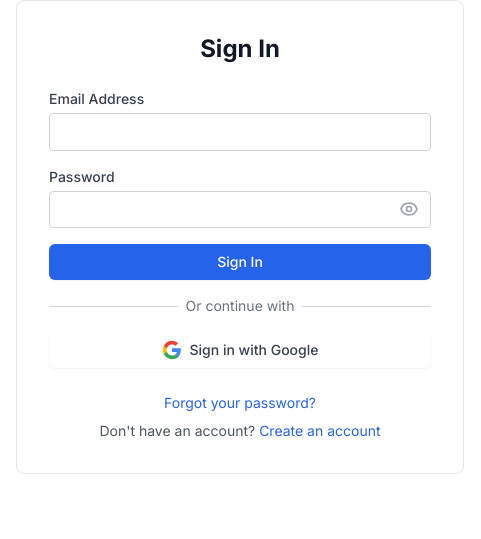
Test: LoginForm › should validate email format before submission
// Enter invalid email
Step 1. Type "invalid-email" into the field labelled "Email Address" → (240, 132), box [49,113,431,151]
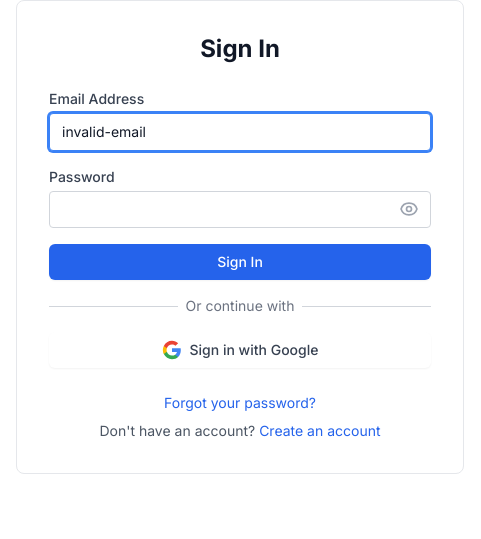
Step 2. Click the button "Sign In" → (240, 262), box [49,244,431,280]
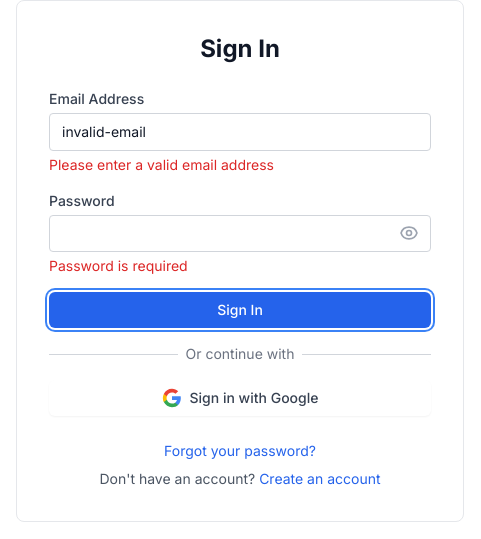
Expected: the text "Please enter a valid email address" is shown, [49,156,274,173]
